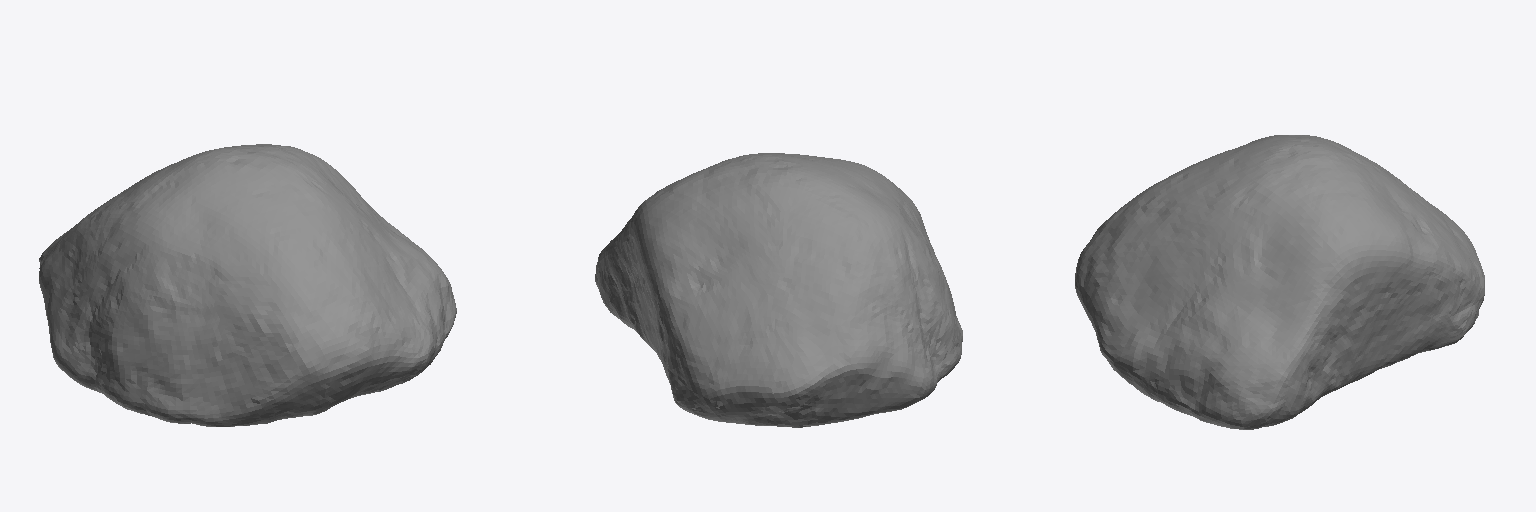
Rendered from rock.obj.
3 views of the same model, side by side, from view 1: azimuth 30°, elevation 25°; view 2: azimuth 150°, elevation 25°; view 3: azimuth 270°, elevation 25° (orthographic).
Parts seen in each view (by area): view 1: Stone5ok17; view 2: Stone5ok17; view 3: Stone5ok17.
Part boxes in pixels (x1,y1,x2,y2): Stone5ok17: (39, 144, 456, 426); Stone5ok17: (595, 153, 962, 427); Stone5ok17: (1075, 135, 1484, 429).
Size of the model in its own units: 3.79 by 1.96 by 3.76.